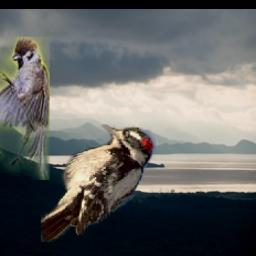Sparrow: (0, 38, 49, 181)
Woodpecker: (41, 126, 156, 243)
